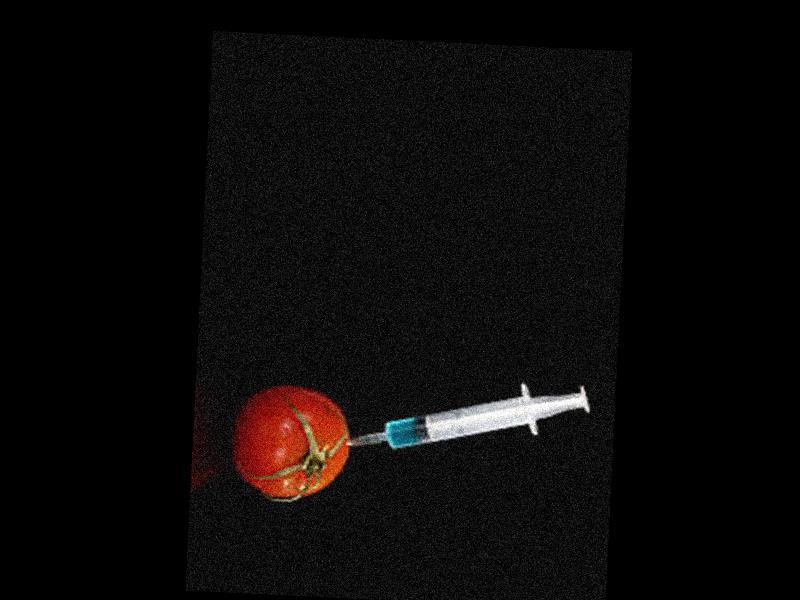Tomato: (233, 382, 353, 504)
